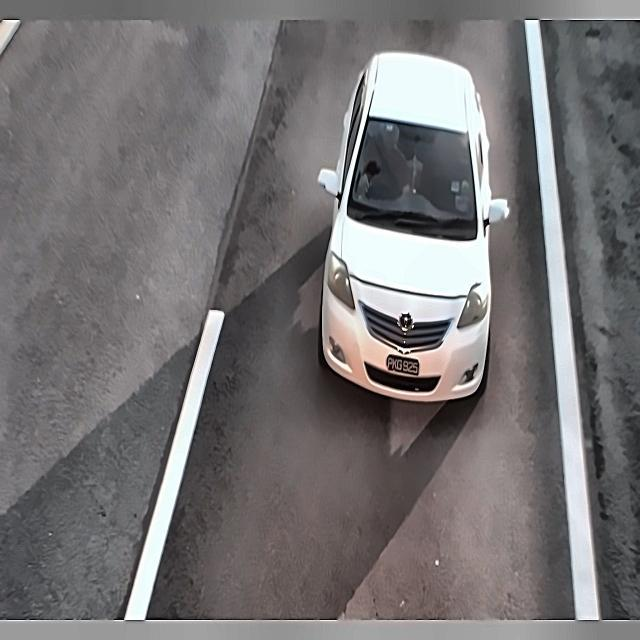car: (384, 341, 428, 380)
